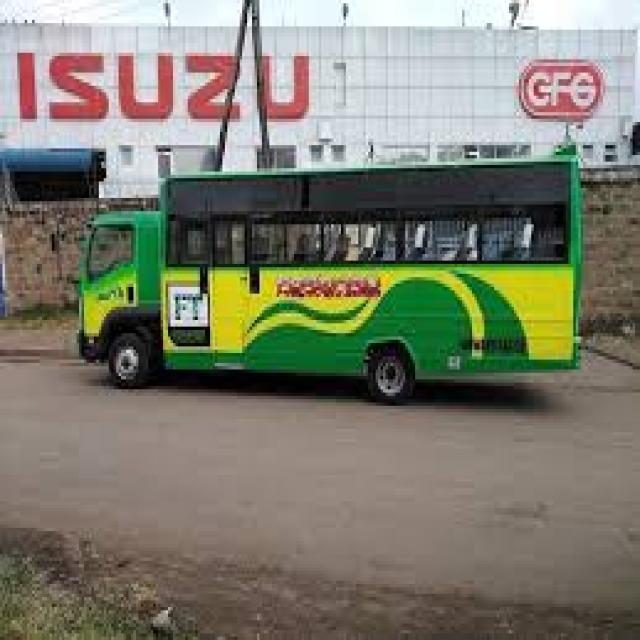bus: (23, 120, 592, 436)
